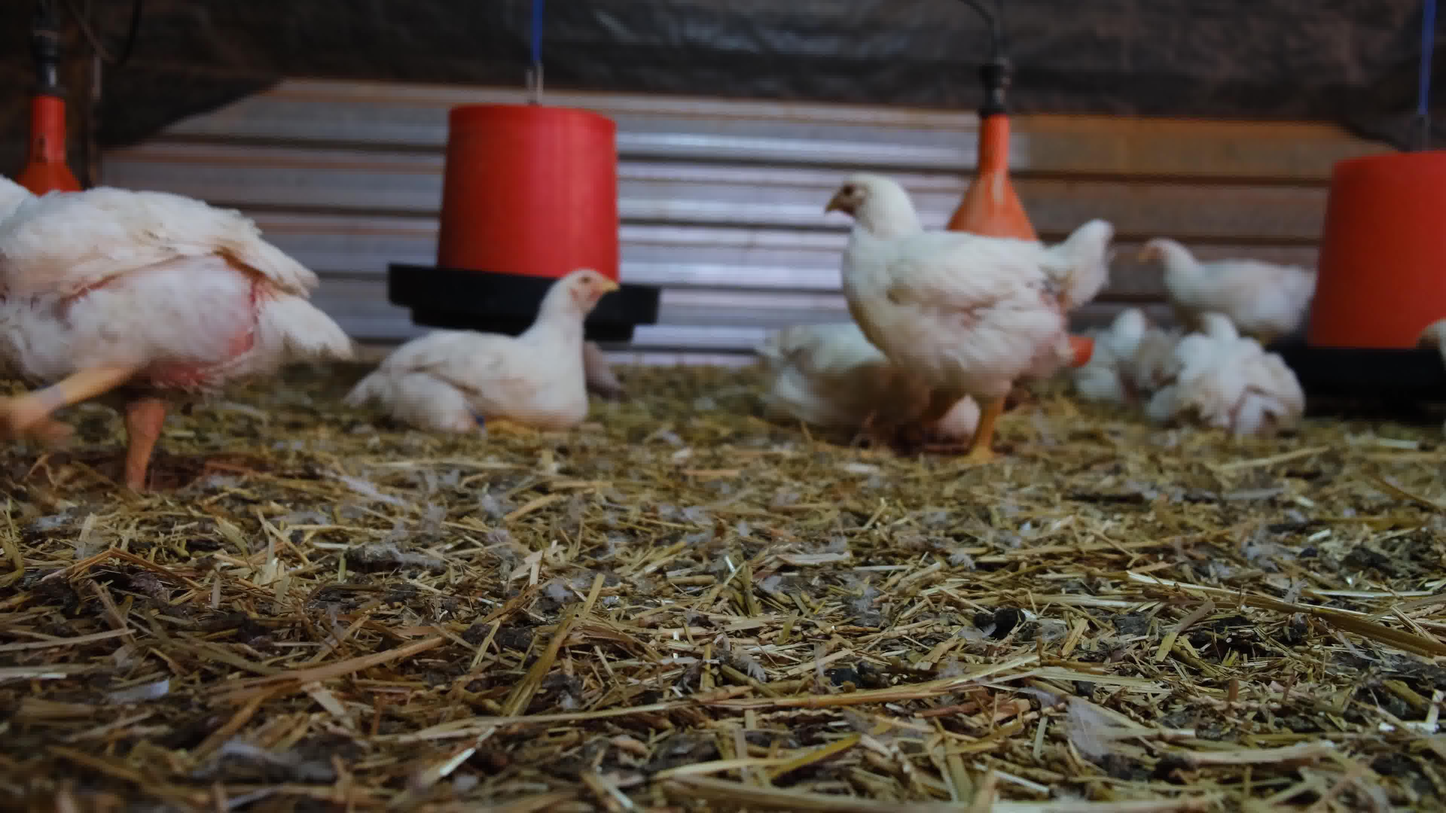AbNormal: (335, 264, 622, 431), (759, 317, 992, 437), (1177, 306, 1315, 437), (1078, 301, 1177, 408)
Normal: (0, 160, 358, 499), (825, 170, 1109, 455), (1138, 230, 1319, 333)
